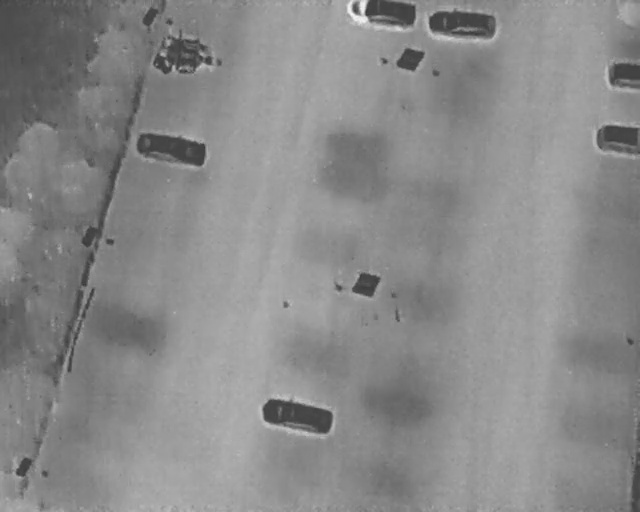Car: (257, 392, 336, 437), (133, 125, 210, 170), (428, 10, 497, 40), (344, 0, 417, 27), (596, 123, 640, 154), (607, 60, 640, 87)
